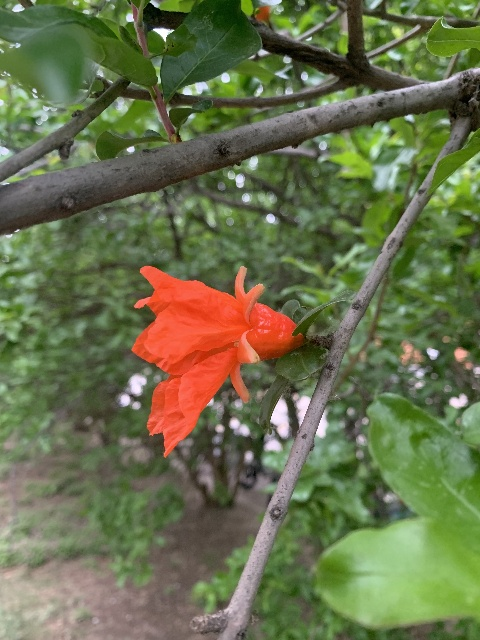flower: (127, 259, 303, 457)
